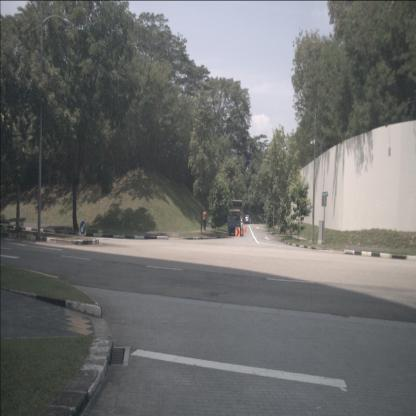human-pedestrian-adult: (202, 209, 208, 231)
movable_object-trafficcone: (240, 226, 243, 235)
vehicle-bus-rigid: (232, 200, 243, 228)
vehicle-car: (244, 215, 252, 224), (239, 214, 246, 224)
vehicle-truck: (228, 210, 241, 236)
